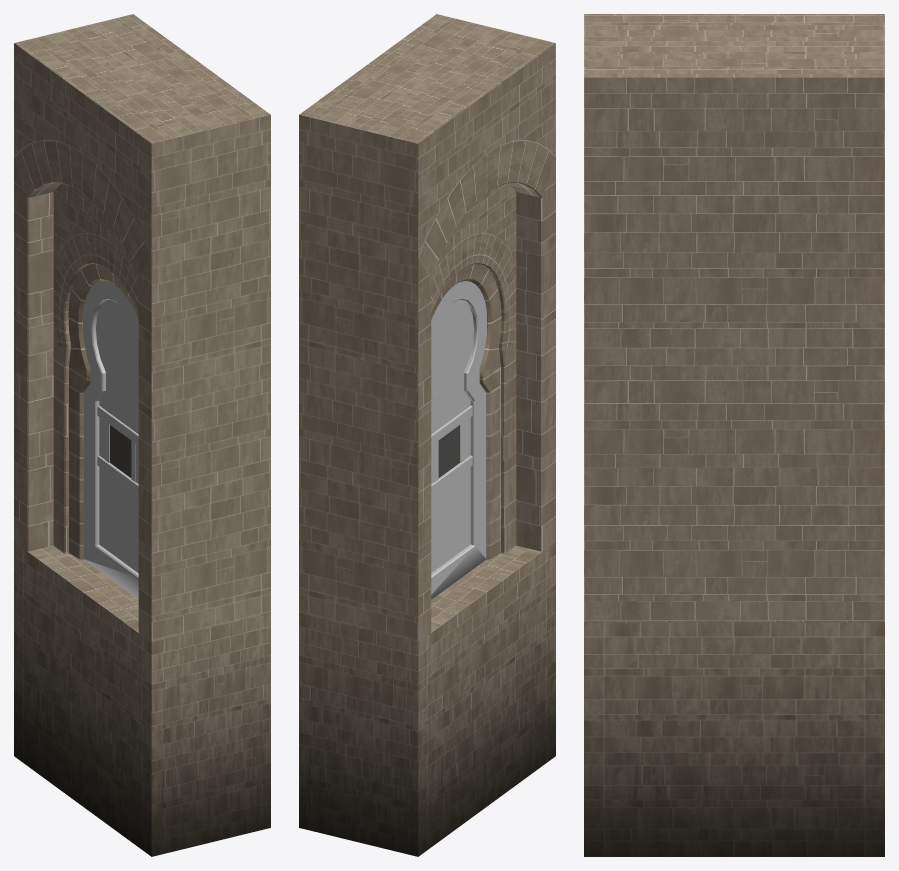
The model's file is DoorEntrance.fbx.
The picture shows the model from 3 angles, left to right: view 1: azimuth 30°, elevation 25°; view 2: azimuth 150°, elevation 25°; view 3: azimuth 270°, elevation 25°; orthographic projection. The views are drawn at different scales.
Parts seen in each view (by area): view 1: DoorEntrance, FloorEntrance, EntranceDoor; view 2: DoorEntrance, FloorEntrance, EntranceDoor; view 3: DoorEntrance, FloorEntrance.
Boxes of the visible parts, x1,y1,x2,y2 form: DoorEntrance: (14,14,270,642); FloorEntrance: (14,542,270,856); EntranceDoor: (83,281,138,599); DoorEntrance: (299,14,555,642); FloorEntrance: (299,542,555,856); EntranceDoor: (431,281,486,599); DoorEntrance: (584,14,884,622); FloorEntrance: (584,622,884,856).
Size of the model in its own units: 2.5 by 14.3 by 5.
